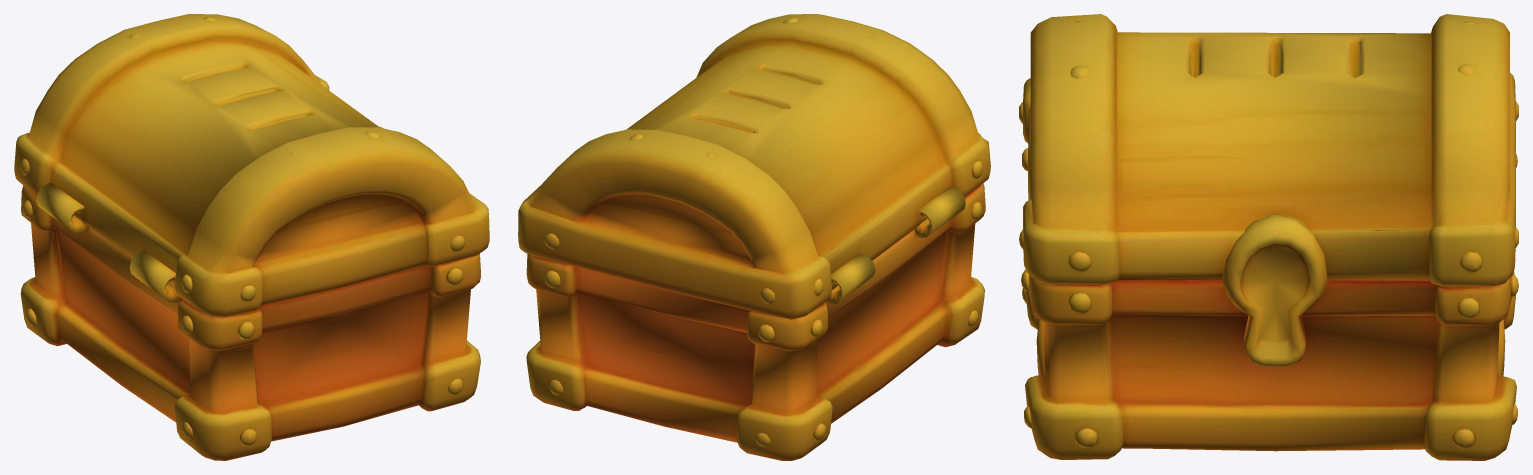
The model's file is wooden-chest.glb.
The picture shows the model from 3 angles, left to right: view 1: azimuth 30°, elevation 25°; view 2: azimuth 150°, elevation 25°; view 3: azimuth 270°, elevation 25°; orthographic projection. The views are drawn at different scales.
Visible parts, largest first — view 1: tripo_node_990812a9-ce70-4ed9-8772-a9747667250e; view 2: tripo_node_990812a9-ce70-4ed9-8772-a9747667250e; view 3: tripo_node_990812a9-ce70-4ed9-8772-a9747667250e.
Boxes of the visible parts, x1,y1,x2,y2 form: tripo_node_990812a9-ce70-4ed9-8772-a9747667250e: (14,14,489,460); tripo_node_990812a9-ce70-4ed9-8772-a9747667250e: (518,14,990,460); tripo_node_990812a9-ce70-4ed9-8772-a9747667250e: (1019,14,1518,460).
Size of the model in its own units: 0.8574 by 0.7677 by 0.998.
1 material, 1 textured.
